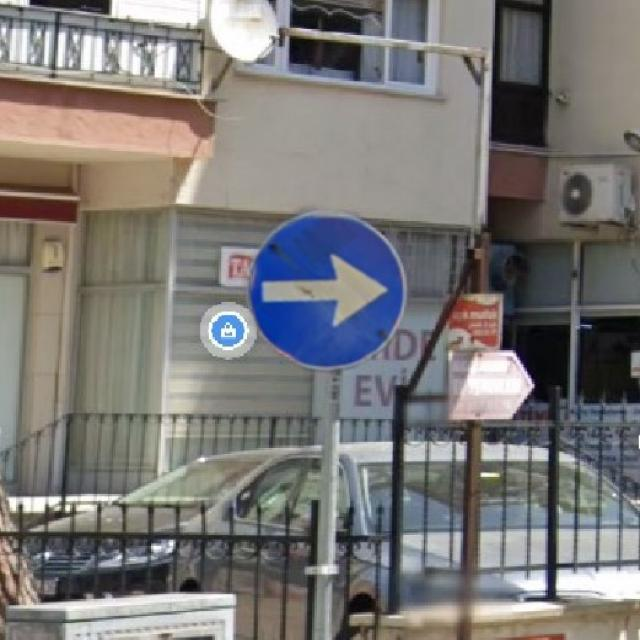Turn Right: (240, 212, 412, 368)
